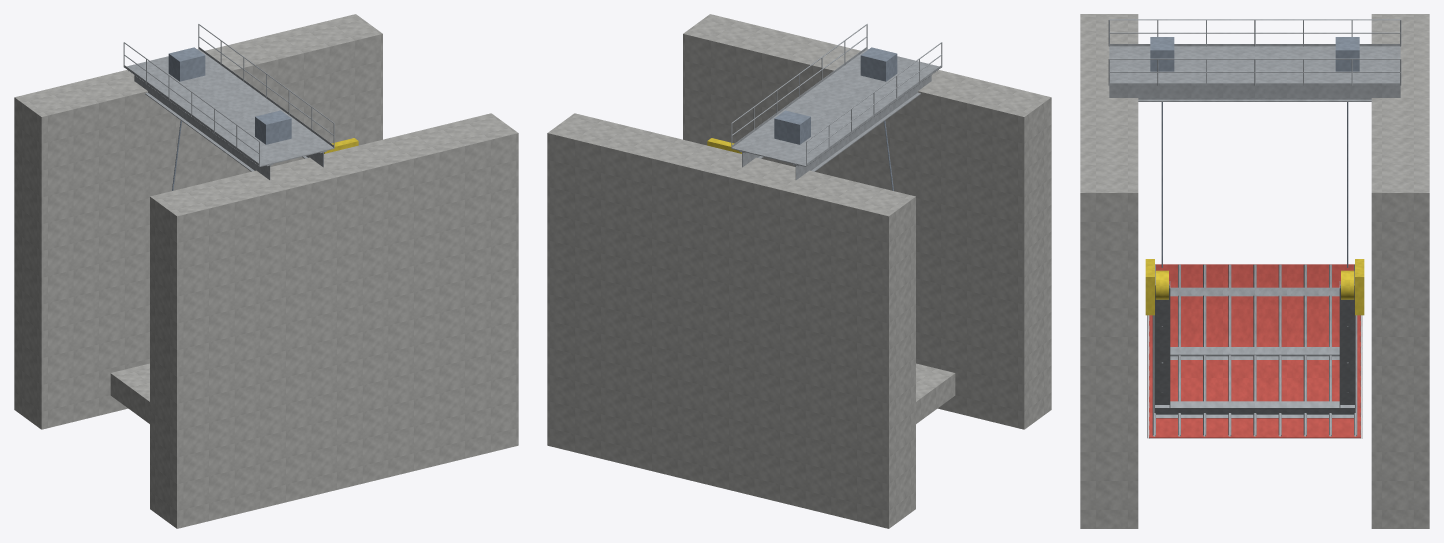
File: spillway-radial-gates-and-frames.glb
The picture shows the model from 3 angles, left to right: view 1: azimuth 30°, elevation 25°; view 2: azimuth 150°, elevation 25°; view 3: azimuth 270°, elevation 25°; orthographic projection. The views are drawn at different scales.
Visible parts, largest first — view 1: Piers&Crest(context), HoistBridge, Hoist&Ropes(context); view 2: Piers&Crest(context), HoistBridge, Hoist&Ropes(context); view 3: Piers&Crest(context), SkinPlate, HoistBridge, HorizontalGirders&Ribs, RadialArms, Hoist&Ropes(context), Trunnions&AnchorBrackets, SideSealPlates.
Boxes of the visible parts, box(x1,y1,x2,y2) form: Piers&Crest(context): box(14, 14, 518, 528); HoistBridge: box(123, 24, 334, 179); Hoist&Ropes(context): box(168, 47, 291, 190); Piers&Crest(context): box(547, 14, 1051, 528); HoistBridge: box(731, 24, 942, 179); Hoist&Ropes(context): box(774, 47, 897, 190); Piers&Crest(context): box(1080, 14, 1429, 528); SkinPlate: box(1149, 264, 1360, 438); HoistBridge: box(1108, 19, 1401, 101); HorizontalGirders&Ribs: box(1152, 264, 1357, 436); RadialArms: box(1154, 281, 1355, 407); Hoist&Ropes(context): box(1150, 37, 1359, 267); Trunnions&AnchorBrackets: box(1145, 259, 1364, 315); SideSealPlates: box(1147, 315, 1362, 438).
Size of the model in its own units: 16 by 15.87 by 13.2.
6 materials, 6 textured.
